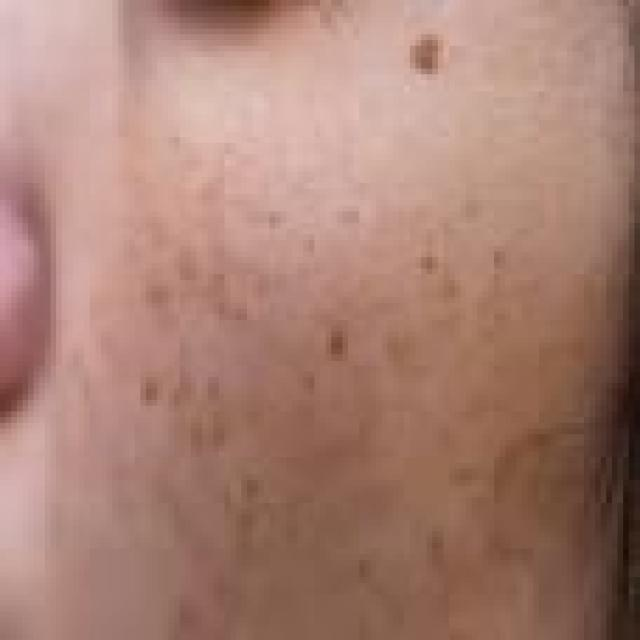Melasma: (100, 157, 604, 623)
